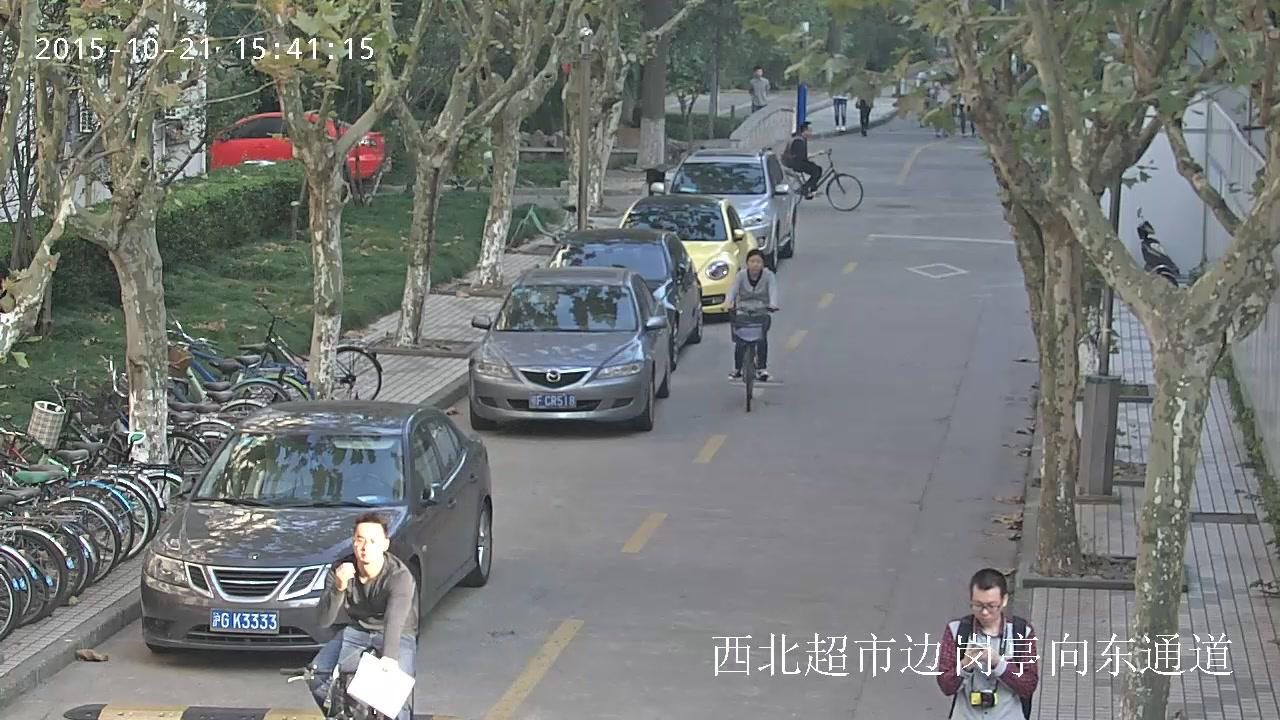face: (353, 521, 385, 562), (973, 584, 1003, 626), (748, 254, 762, 272), (806, 124, 812, 135), (756, 68, 761, 78)
